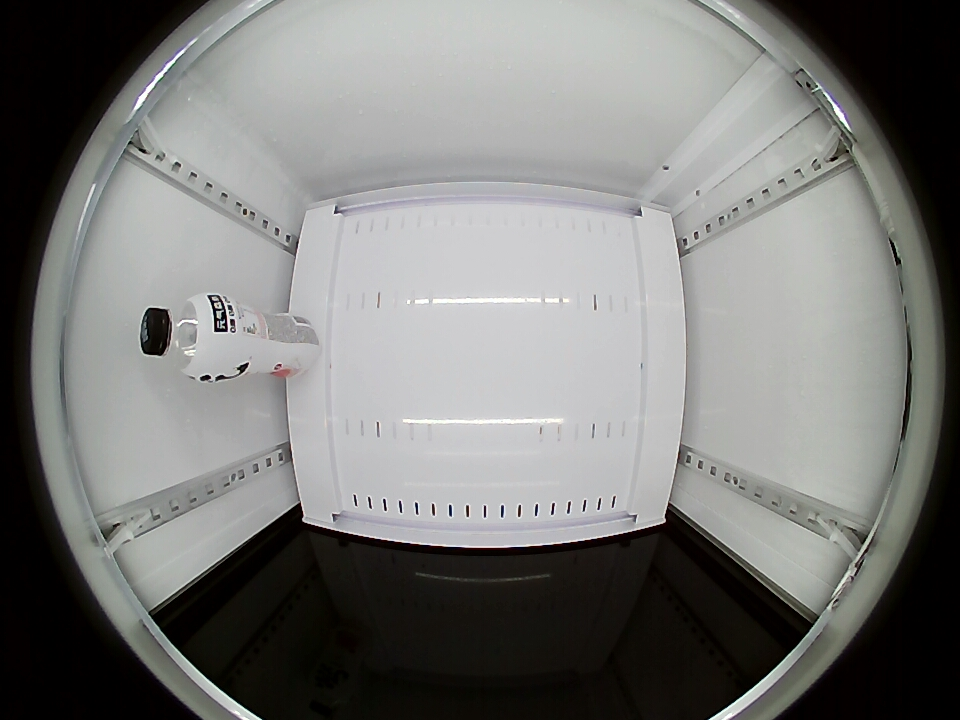yuanqishui: (139, 292, 236, 383)
